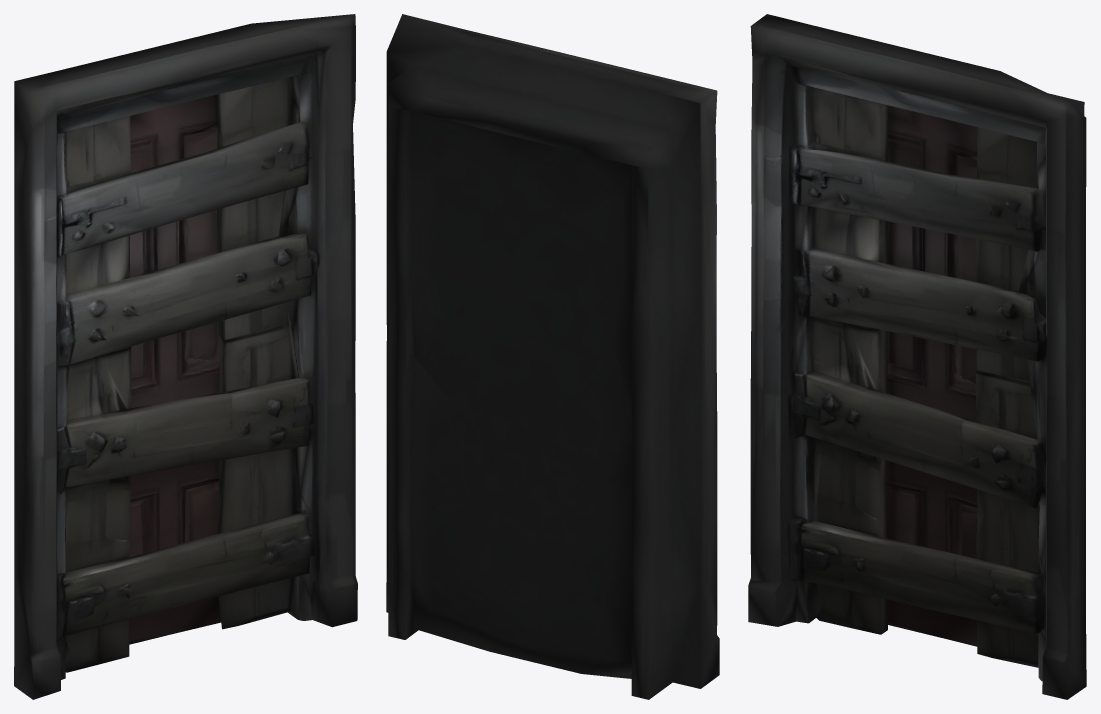
The model's file is pantry_door_boarded_hd.glb.
3 renders of one model, left to right at view 1: azimuth 30°, elevation 25°; view 2: azimuth 150°, elevation 25°; view 3: azimuth 330°, elevation 25°, orthographic. The views are drawn at different scales.
Parts seen in each view (by area): view 1: tripo_node_fde3ceb4-c045-4764-a776-802190bd2a1b; view 2: tripo_node_fde3ceb4-c045-4764-a776-802190bd2a1b; view 3: tripo_node_fde3ceb4-c045-4764-a776-802190bd2a1b.
Part boxes in pixels (x1,y1,x2,y2): tripo_node_fde3ceb4-c045-4764-a776-802190bd2a1b: [14, 14, 357, 699]; tripo_node_fde3ceb4-c045-4764-a776-802190bd2a1b: [386, 14, 719, 699]; tripo_node_fde3ceb4-c045-4764-a776-802190bd2a1b: [748, 14, 1086, 699].
Bounding box in the file's own units: 0.5618 × 1 × 0.1319.
Materials: 1 (1 with a texture image).
